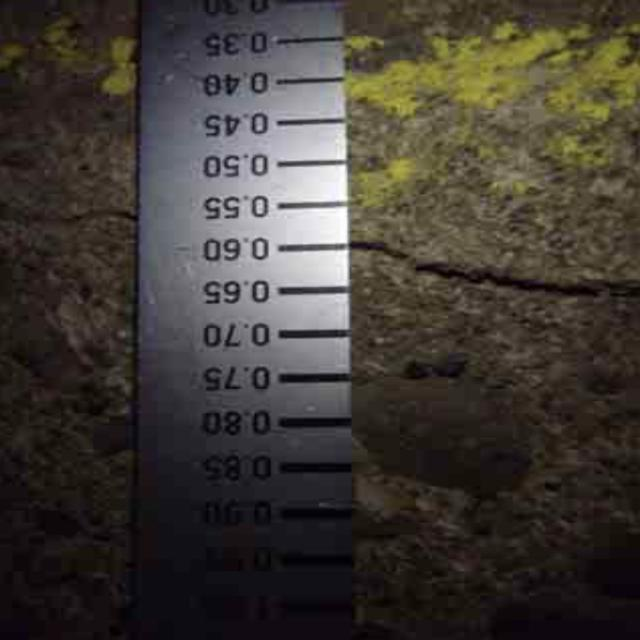crack: (343, 218, 634, 326)
